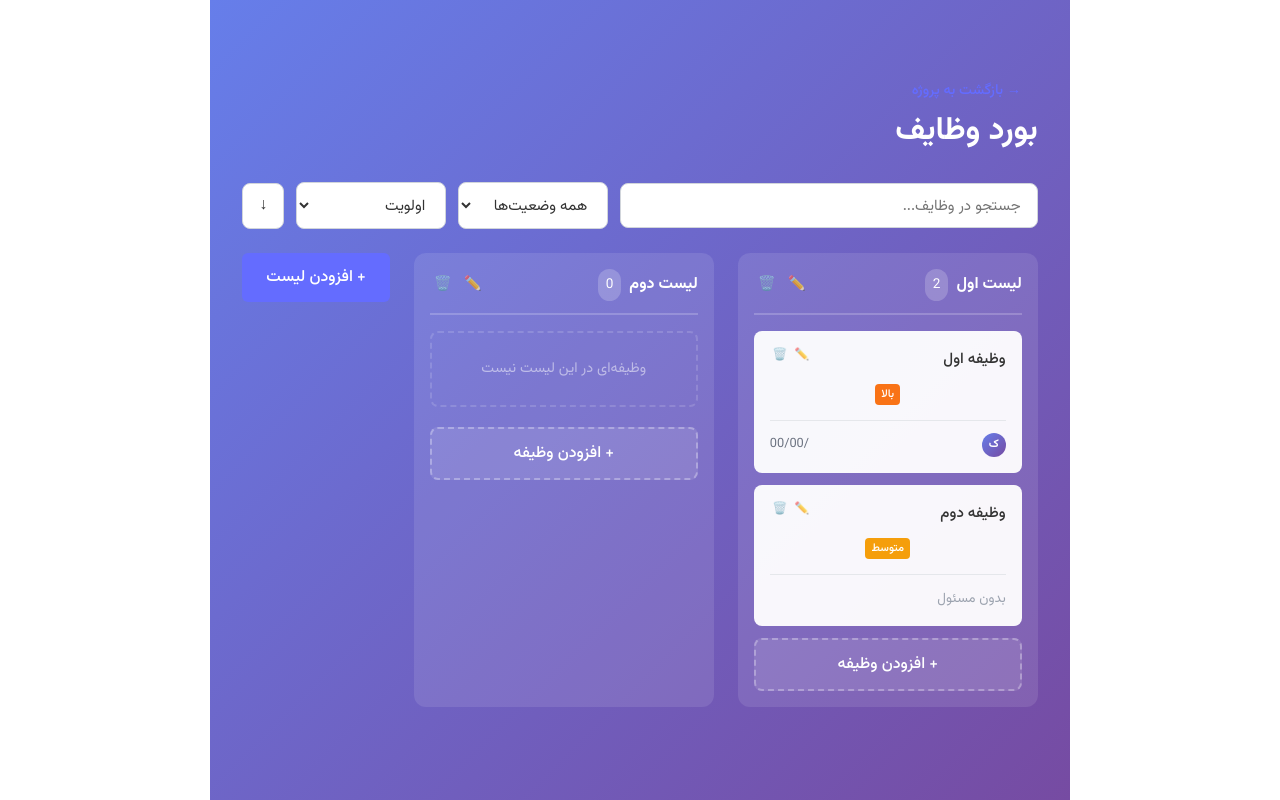
Test: TaskBoard › Create list › creates a new list successfully
This screenshot has width=1280, height=800.
Expected: the heading "لیست اول" is shown, left=956, top=271, right=1022, bottom=298
Note: Open form
Click the button "+ افزودن لیست" at (316,278), box left=242, top=253, right=390, bottom=302
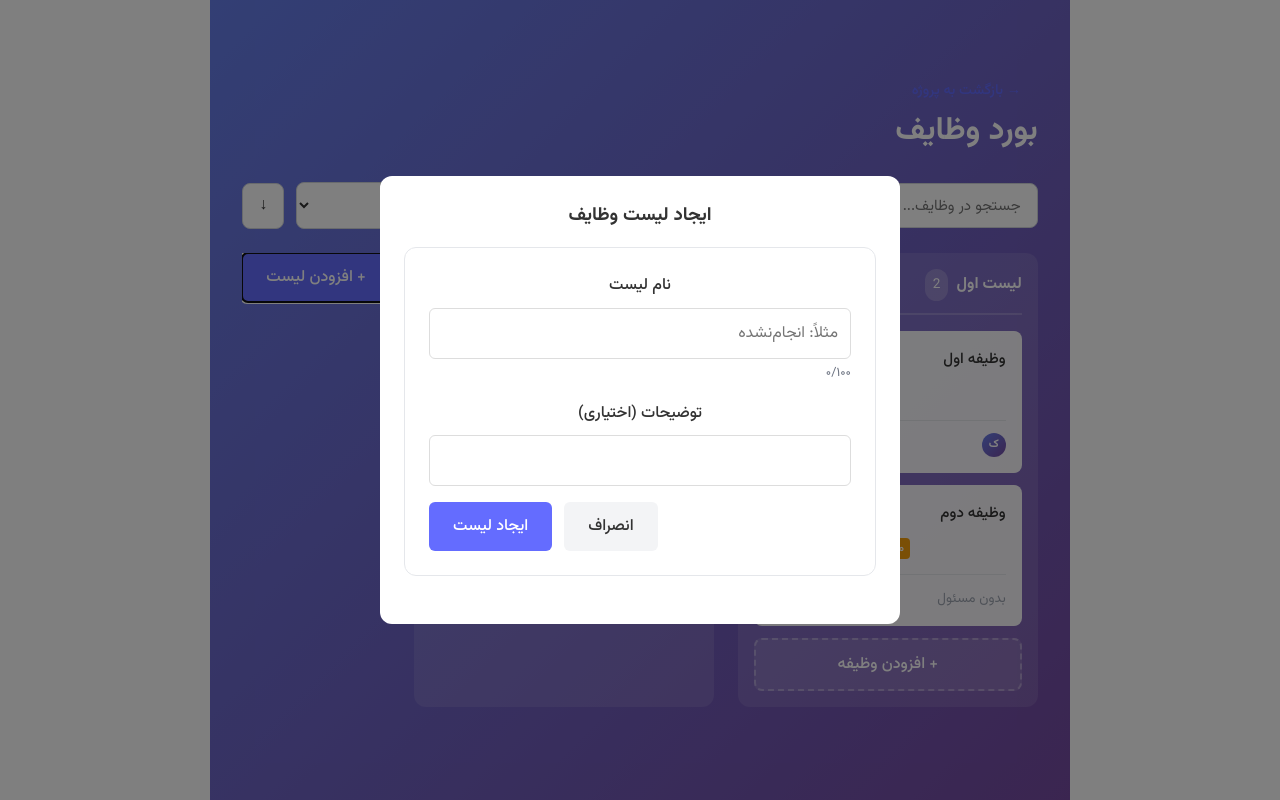
Note: Fill name
Type "لیست جدید" into the field with placeholder "مثلاً: انجام‌نشده" at (640,333), box left=429, top=308, right=851, bottom=358
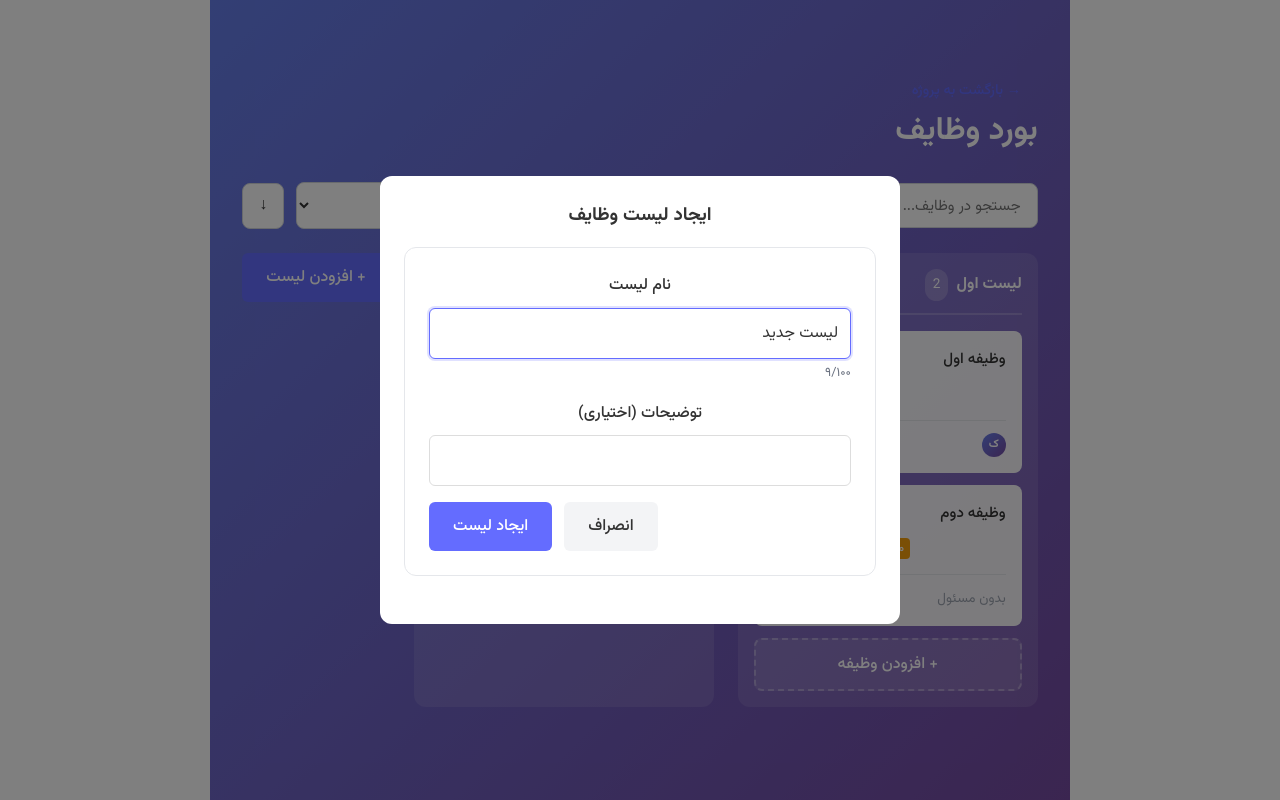
Click the button "ایجاد لیست" at (491,527), box left=429, top=502, right=552, bottom=552
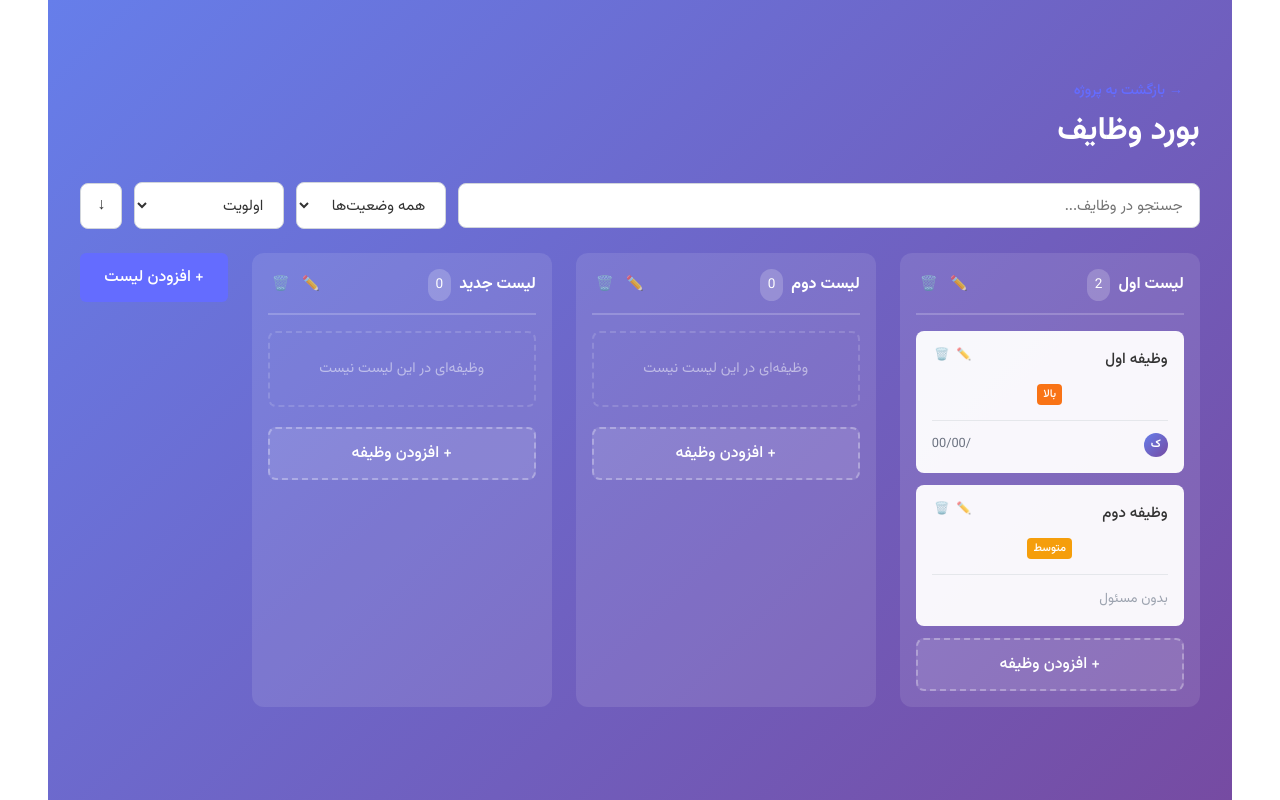
Expected: the heading "لیست جدید" is shown, left=459, top=271, right=536, bottom=298
